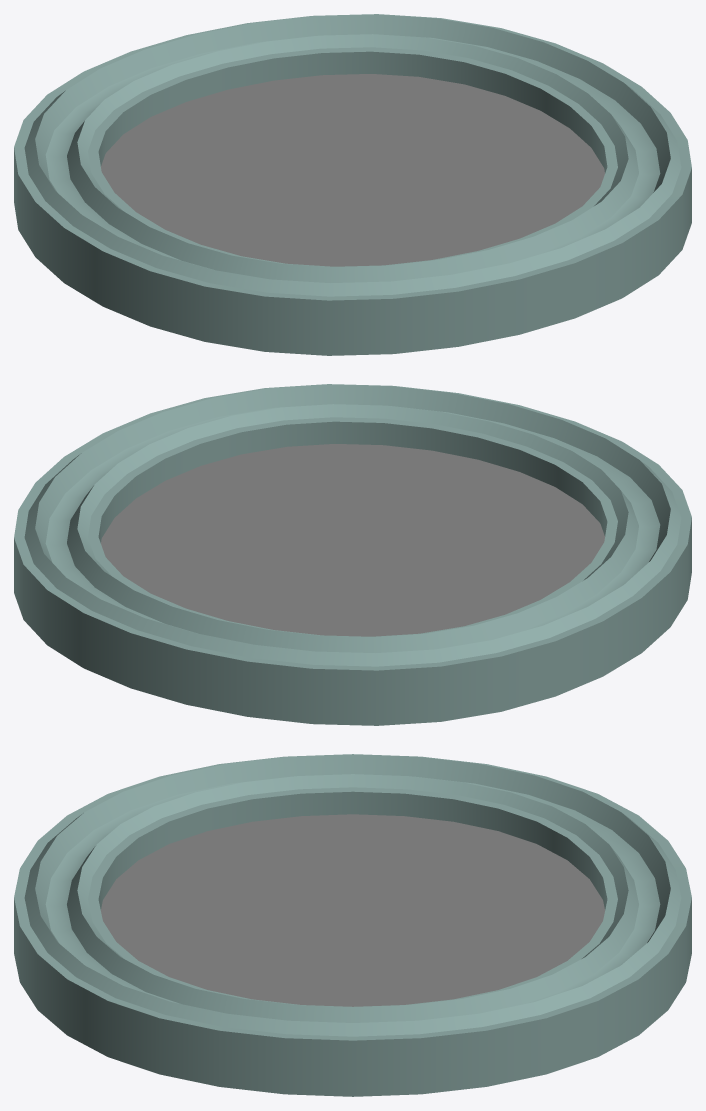
Rendered from bathroomMirror.glb.
3 views of the same model, one above another, from view 1: azimuth 30°, elevation 25°; view 2: azimuth 150°, elevation 25°; view 3: azimuth 270°, elevation 25° (orthographic).
Visible parts, largest first — view 1: Cube.001, Cube; view 2: Cube.001, Cube; view 3: Cube.001, Cube.
Boxes of the visible parts, left/top/right/bottom form: Cube.001: left=14, top=14, right=691, bottom=355; Cube: left=101, top=74, right=604, bottom=266; Cube.001: left=14, top=384, right=691, bottom=725; Cube: left=101, top=444, right=604, bottom=636; Cube.001: left=14, top=754, right=691, bottom=1096; Cube: left=101, top=814, right=604, bottom=1006.
Size of the model in its own units: 1.19 by 0.1259 by 1.19.
